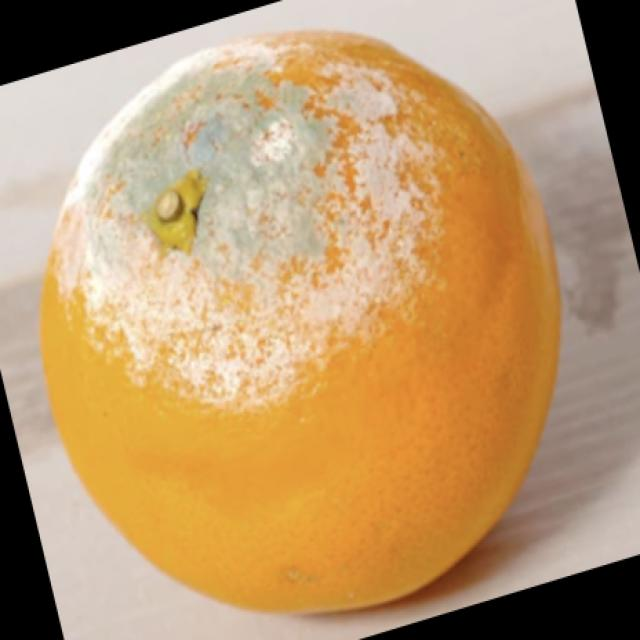sedikit_busuk: (40, 33, 556, 616)
